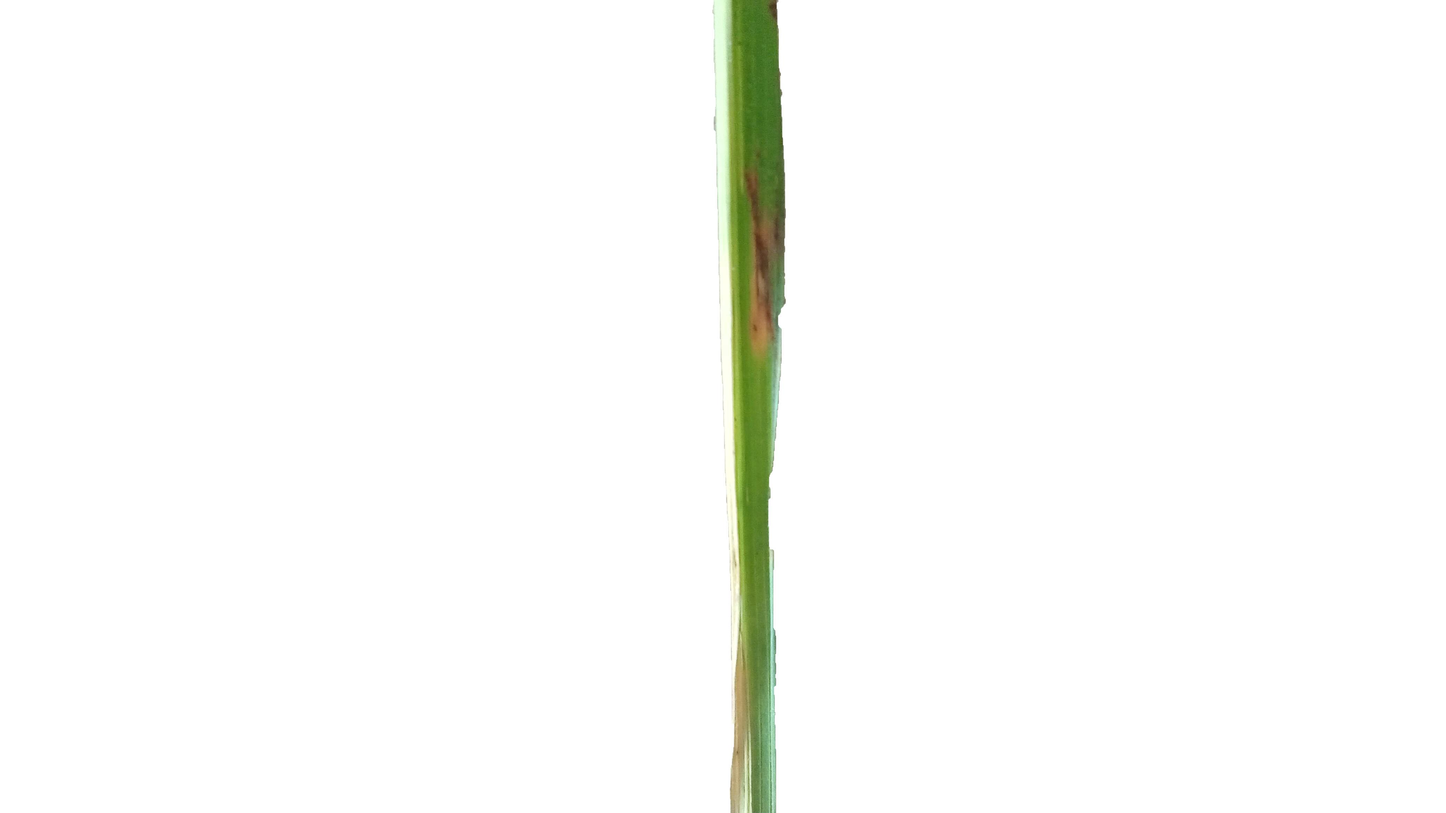Rice blast: (734, 159, 779, 362)
